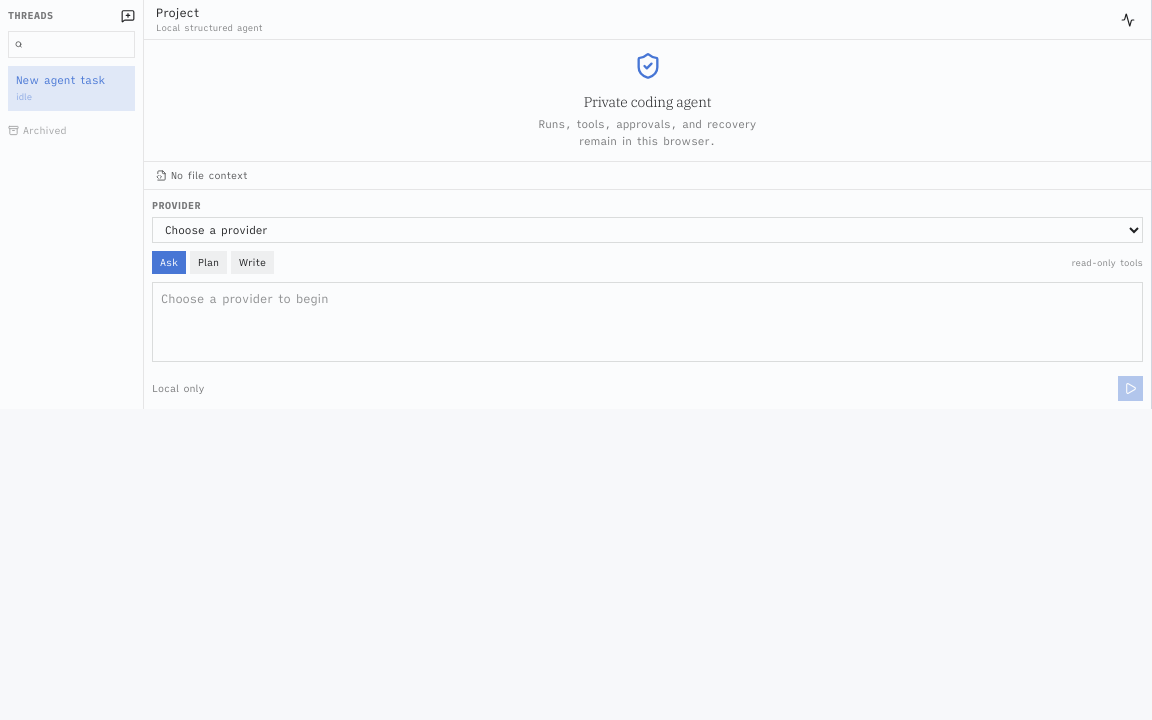
Test: AgentWorkspace › requires an explicit provider choice before a run can start
Check: the text box with placeholder "Choose a provider to begin" is disabled, box [152,282,1143,362]
Check: the button titled "Run agent" is disabled, box [1118,376,1143,401]
Select "Demo — deterministic echo (not a model)" in the dropdown named "Model provider" at (648, 230), box [152,217,1143,243]
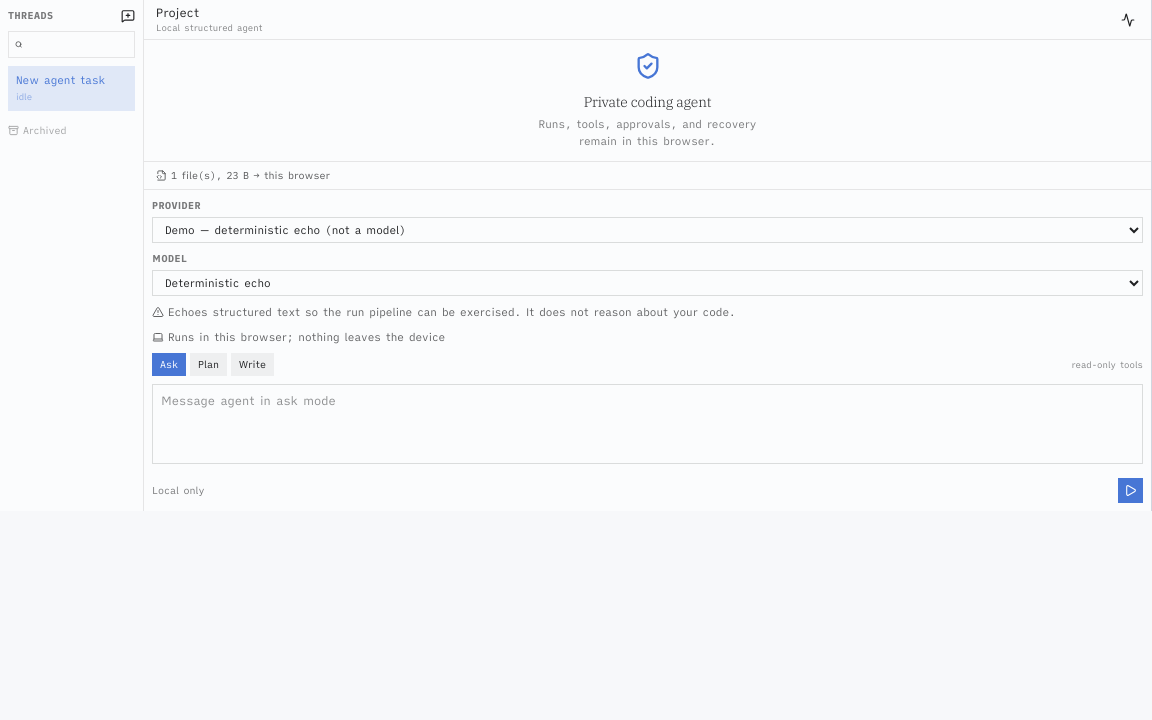
Check: the button titled "Run agent" is enabled, box [1118,478,1143,503]
